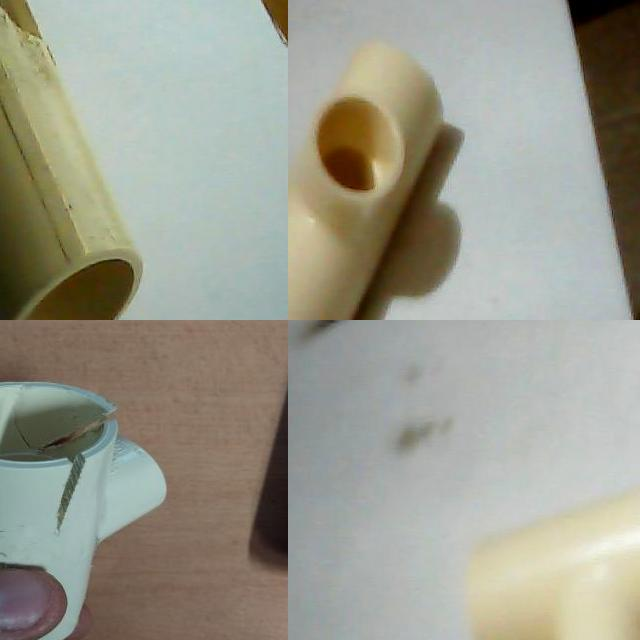Defective: (37, 450, 123, 546), (68, 394, 162, 464)
T Joint: (288, 41, 443, 320), (467, 486, 640, 640)
